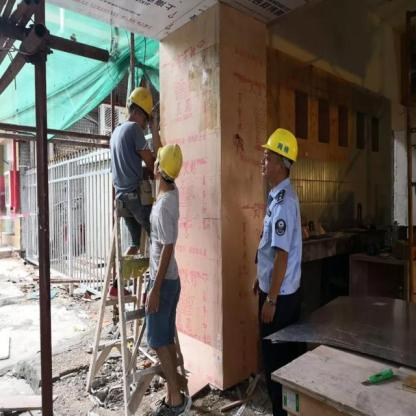bota: (168, 390, 191, 416)
capacete: (260, 127, 298, 179), (152, 142, 182, 184), (125, 86, 153, 127)
